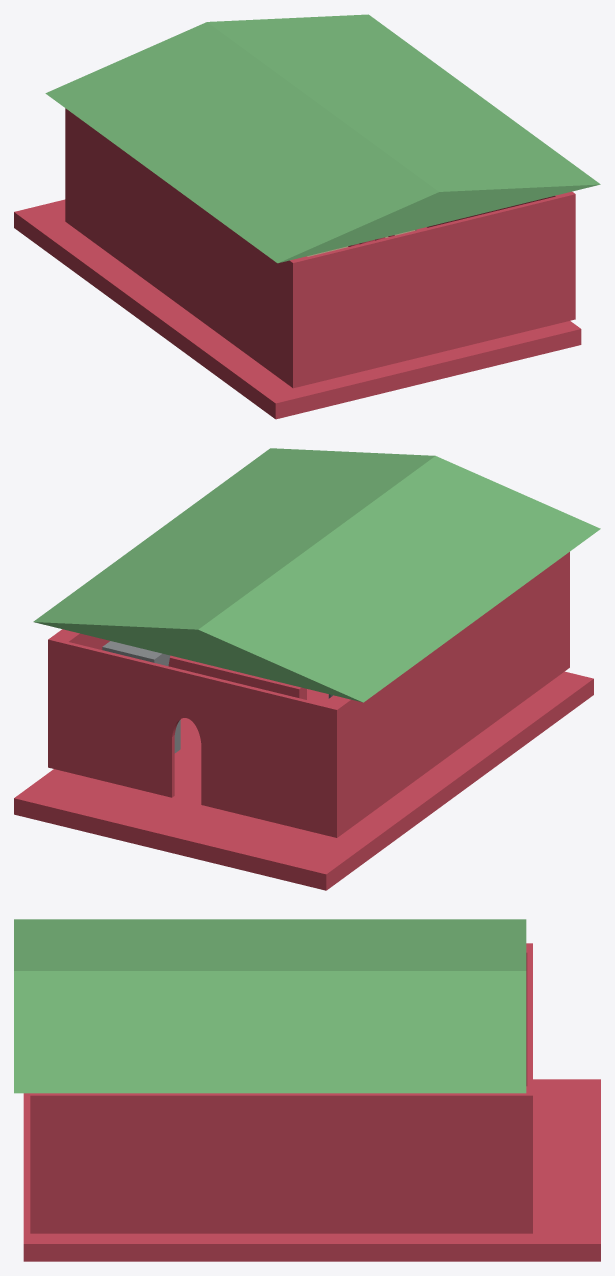
The model's file is seanhouse.fbx.
3 views of the same model, one above another, from view 1: azimuth 30°, elevation 25°; view 2: azimuth 150°, elevation 25°; view 3: azimuth 270°, elevation 25° (orthographic). The views are drawn at different scales.
Visible parts, largest first — view 1: Mesh_Mesh_head_geo.001_lambert2SG.001; view 2: Mesh_Mesh_head_geo.001_lambert2SG.001; view 3: Mesh_Mesh_head_geo.001_lambert2SG.001.
Part boxes in pixels (left/top/right/bottom): Mesh_Mesh_head_geo.001_lambert2SG.001: left=14, top=14, right=600, bottom=419; Mesh_Mesh_head_geo.001_lambert2SG.001: left=14, top=448, right=600, bottom=890; Mesh_Mesh_head_geo.001_lambert2SG.001: left=14, top=919, right=600, bottom=1261.
Size of the model in its own units: 12700 by 7200 by 18100.
